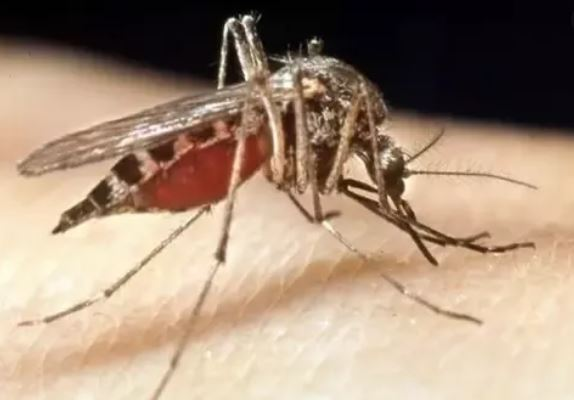dengue_mosquito: (10, 15, 539, 272)
